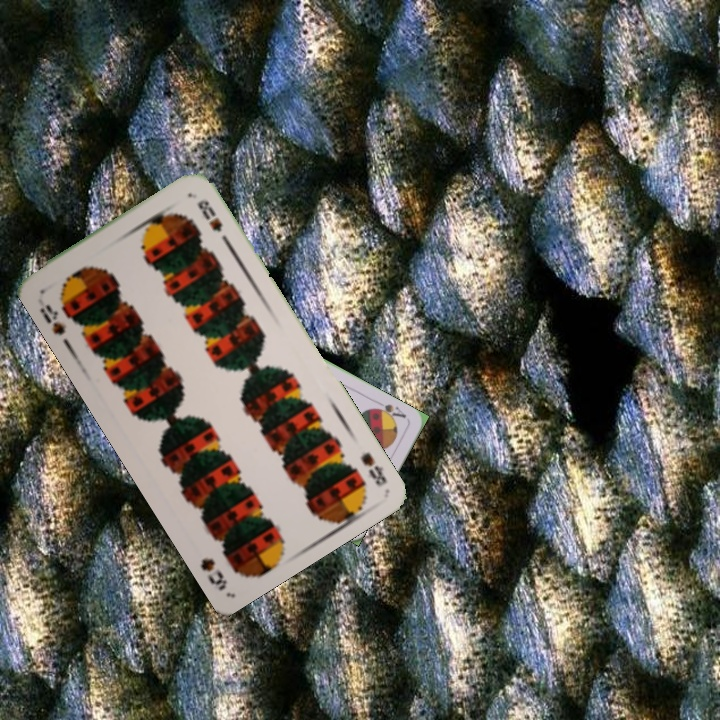S8: (356, 448, 390, 489), (35, 300, 69, 338)
SA: (369, 397, 409, 423)
